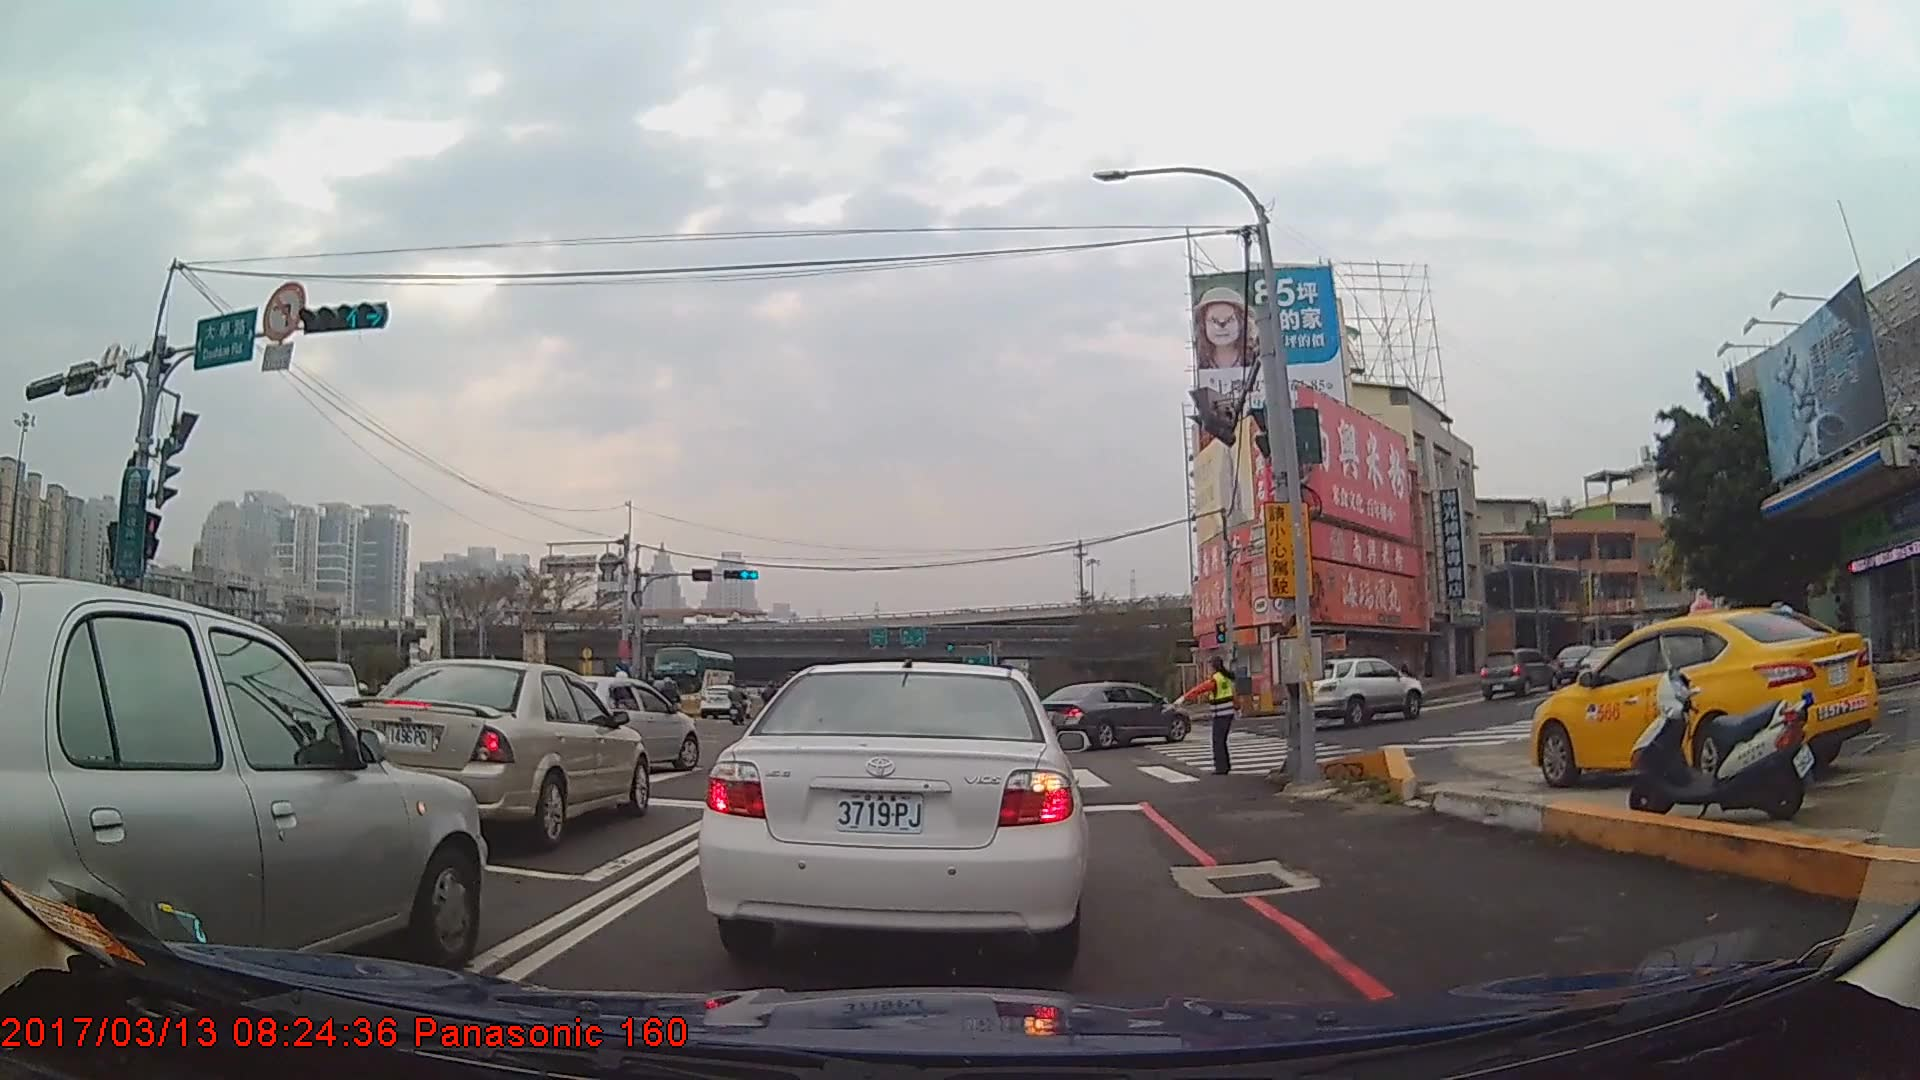pedestrian: (1166, 656, 1244, 777)
rider: (759, 681, 779, 728), (728, 681, 748, 725)
vehicle: (0, 572, 485, 997), (698, 657, 1088, 964), (1526, 605, 1877, 791), (337, 655, 648, 844), (532, 673, 700, 773), (1034, 680, 1189, 748), (1299, 655, 1425, 728), (653, 645, 736, 702), (1475, 645, 1558, 701), (696, 682, 749, 720)
